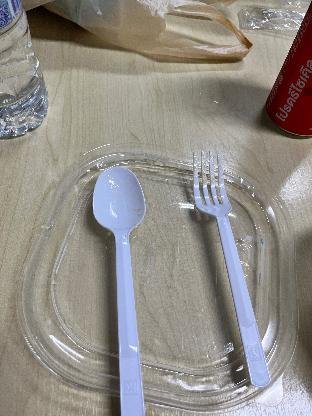Others: (188, 144, 270, 400), (85, 160, 161, 416)
